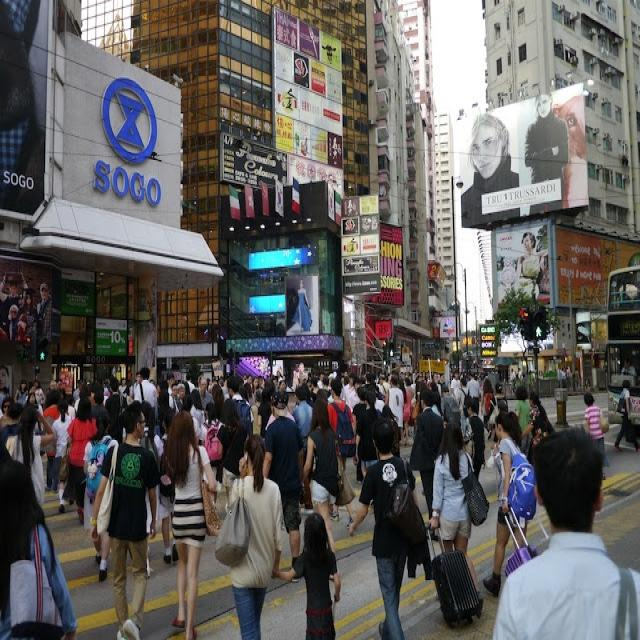body: (0, 353, 639, 427), (487, 421, 640, 640), (449, 112, 536, 380), (346, 413, 434, 639), (91, 398, 163, 638), (213, 431, 288, 638), (161, 408, 225, 639), (0, 456, 78, 639), (481, 408, 538, 597), (260, 388, 306, 584), (273, 511, 341, 638), (299, 393, 341, 584), (81, 405, 120, 583), (426, 420, 476, 555), (4, 400, 58, 509), (326, 376, 358, 528), (410, 388, 445, 519), (0, 266, 52, 354), (65, 395, 99, 525), (524, 89, 570, 184), (215, 406, 249, 514), (289, 385, 315, 512), (198, 400, 226, 509), (50, 396, 75, 508), (354, 387, 384, 480), (514, 230, 550, 302), (582, 390, 610, 482), (612, 377, 639, 455), (224, 375, 254, 445), (464, 396, 487, 481), (33, 427, 56, 492), (384, 373, 405, 444), (290, 278, 313, 334), (528, 390, 554, 438), (134, 364, 159, 409), (341, 197, 359, 256), (536, 229, 549, 299), (494, 253, 521, 284), (252, 312, 278, 337), (198, 375, 216, 409), (262, 377, 279, 408), (327, 133, 342, 167), (449, 366, 463, 398), (294, 131, 308, 157), (201, 327, 222, 342), (0, 428, 9, 456), (299, 240, 317, 253), (266, 273, 286, 284)
